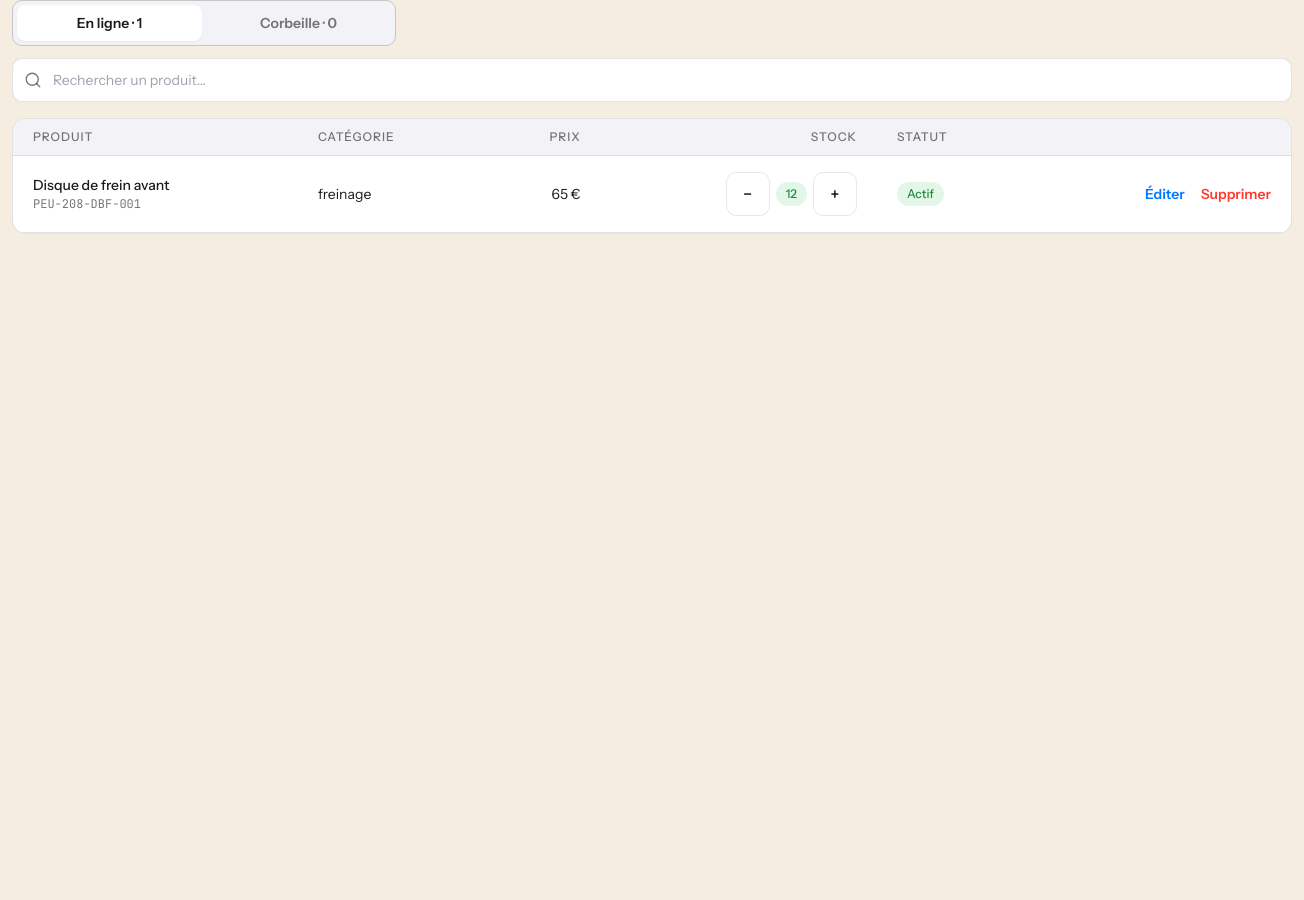
Test: Liste des pièces — stock −/+ › un refus du serveur s’affiche
Click the button named "Ajouter 1 au stock de".
click(835, 194)  # box [813, 172, 857, 216]
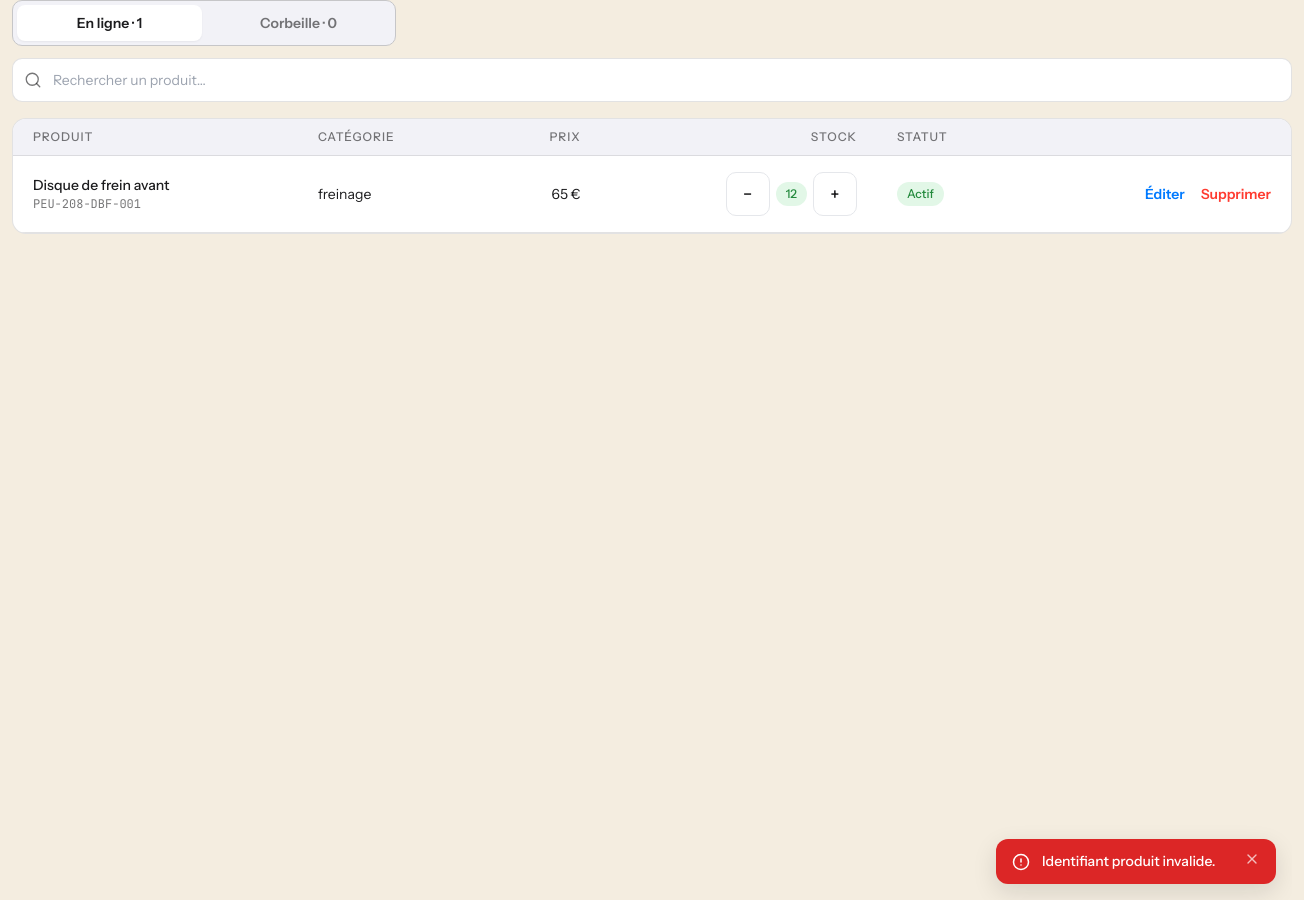
Check: the text "Identifiant produit invalide." is shown, box [1042, 851, 1232, 872]
